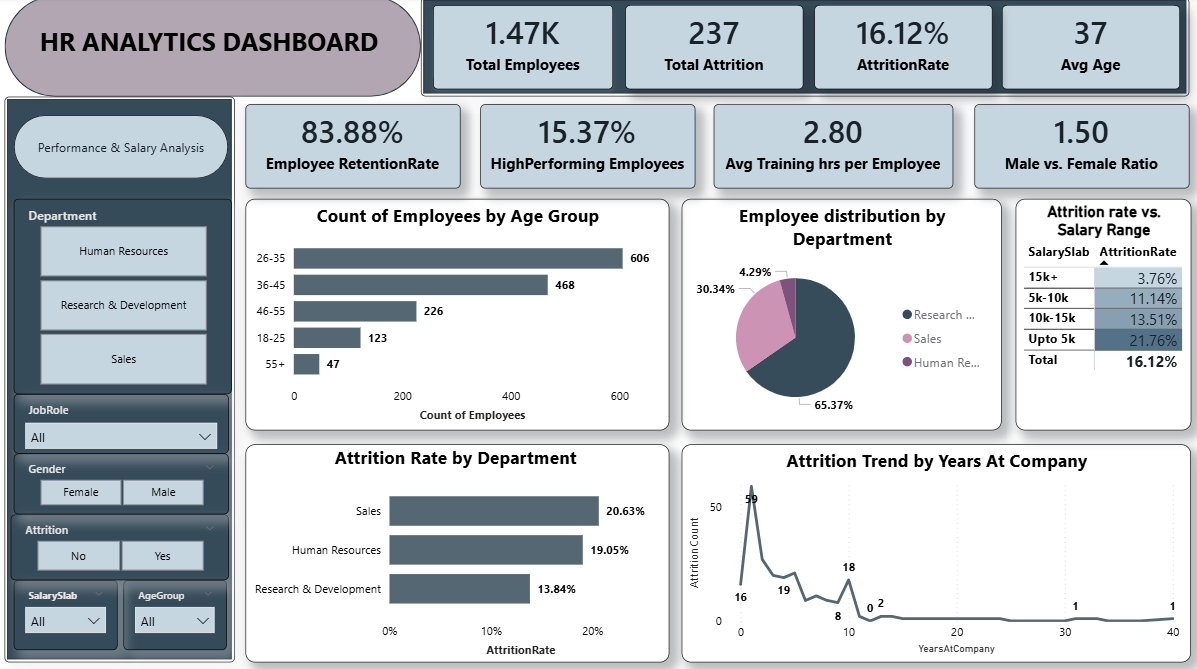

The dashboard page shown, as its layout file describes it:
{"tool":"powerbi","page":{"name":"Employee Demographics & Attrition Analysis ","canvas":[1280,720],"ordinal":0},"visuals":[{"type":"shape","box":[4.9,0,444.5,107.5],"z":0},{"type":"shape","box":[4.9,107.5,245.8,604],"z":1000},{"type":"shape","box":[449.3,1.6,820.5,105.8],"z":2000},{"type":"pieChart","title":"Employee distribution by Department ","fields":{"Y":["CountNonNull(HR_Analytics.EmpID)"],"Category":["HR_Analytics.Department"]},"box":[727.7,216.5,341.9,247.5],"z":3000},{"type":"barChart","title":"Count of Employees by Age Group ","fields":{"Category":["HR_Analytics.AgeGroup"],"Y":["CountNonNull(HR_Analytics.EmpID)"]},"box":[262.1,216.5,452.6,247.5],"z":4000},{"type":"cardVisual","fields":{"Data":["Count(HR_Analytics.EmpID)"]},"box":[462.4,9.8,192.1,89.5],"z":5000},{"type":"cardVisual","fields":{"Data":["HR_Analytics.Avg Age (Rounded)"]},"box":[1069.6,9.8,190.5,89.5],"z":6000},{"type":"cardVisual","fields":{"Data":["HR_Analytics.Male vs. Female Ratio"]},"box":[1040.3,115.6,229.6,89.5],"z":7000},{"type":"cardVisual","fields":{"Data":["Sum(HR_Analytics.AttritionCount)"]},"box":[667.5,9.8,190.5,89.5],"z":8000},{"type":"cardVisual","fields":{"Data":["HR_Analytics.AttritionRate"]},"box":[869.4,9.8,190.5,89.5],"z":9000},{"type":"barChart","title":"Attrition Rate by Department ","fields":{"Y":["HR_Analytics.AttritionRate"],"Category":["HR_Analytics.Department"]},"box":[262.1,478.6,452.6,232.8],"z":10000},{"type":"lineChart","title":"Attrition Trend by Years At Company","fields":{"Y":["Sum(HR_Analytics.AttritionCount)"],"Category":["HR_Analytics.YearsAtCompany"]},"box":[727.7,478.6,543.8,232.8],"z":11000},{"type":"pivotTable","title":"Attrition rate vs. Salary Range ","fields":{"Values":["HR_Analytics.AttritionRate"],"Rows":["HR_Analytics.SalarySlab"]},"box":[1084.3,216.5,187.2,247.5],"z":12000},{"type":"slicer","fields":{"Values":["HR_Analytics.Department"]},"box":[14.7,216.5,232.8,208.4],"z":13000},{"type":"slicer","fields":{"Values":["HR_Analytics.JobRole"]},"box":[14.7,424.9,229.6,63.5],"z":14000},{"type":"slicer","fields":{"Values":["HR_Analytics.SalarySlab"]},"box":[14.7,623.5,110.7,74.9],"z":15000},{"type":"slicer","fields":{"Values":["HR_Analytics.AgeGroup"]},"box":[131.9,623.5,110,75],"z":16000},{"type":"cardVisual","fields":{"Data":["HR_Analytics.Employee Retention Rate %"]},"box":[262.1,115.6,229.5,89.5],"z":17000},{"type":"cardVisual","fields":{"Data":["HR_Analytics.High Performing Employees %"]},"box":[512.8,115.6,229.6,89.5],"z":18000},{"type":"cardVisual","fields":{"Data":["HR_Analytics.Avg Training Hours per Employee"]},"box":[761.9,115.6,255.6,89.5],"z":19000},{"type":"slicer","fields":{"Values":["HR_Analytics.Attrition"]},"box":[11.4,553.5,232.8,70],"z":20000},{"type":"pageNavigator","box":[14.7,127,229.6,68.4],"z":21000},{"type":"textbox","box":[37.4,24.4,428.2,99.3],"z":22000},{"type":"slicer","fields":{"Values":["HR_Analytics.Gender"]},"box":[14.7,488.4,229.6,65.1],"z":23000}]}

Visuals, with their boxes in screenshot pixels (x1, y1, x2, y2), scaled from the page's 1280x720 canvas onto the 1197x669 screenshot:
shape: (5,0,420,100)
shape: (5,100,234,661)
shape: (420,1,1187,100)
"Employee distribution by Department " pieChart: (681,201,1000,431)
"Count of Employees by Age Group " barChart: (245,201,668,431)
cardVisual - Count(HR_Analytics.EmpID): (432,9,612,92)
cardVisual - HR_Analytics.Avg Age (Rounded): (1000,9,1178,92)
cardVisual - HR_Analytics.Male vs. Female Ratio: (973,107,1188,191)
cardVisual - Sum(HR_Analytics.AttritionCount): (624,9,802,92)
cardVisual - HR_Analytics.AttritionRate: (813,9,991,92)
"Attrition Rate by Department " barChart: (245,445,668,661)
"Attrition Trend by Years At Company" lineChart: (681,445,1189,661)
"Attrition rate vs. Salary Range " pivotTable: (1014,201,1189,431)
slicer - HR_Analytics.Department: (14,201,231,395)
slicer - HR_Analytics.JobRole: (14,395,228,454)
slicer - HR_Analytics.SalarySlab: (14,579,117,649)
slicer - HR_Analytics.AgeGroup: (123,579,226,649)
cardVisual - HR_Analytics.Employee Retention Rate %: (245,107,460,191)
cardVisual - HR_Analytics.High Performing Employees %: (480,107,694,191)
cardVisual - HR_Analytics.Avg Training Hours per Employee: (712,107,952,191)
slicer - HR_Analytics.Attrition: (11,514,228,579)
pageNavigator: (14,118,228,182)
textbox: (35,23,435,115)
slicer - HR_Analytics.Gender: (14,454,228,514)
